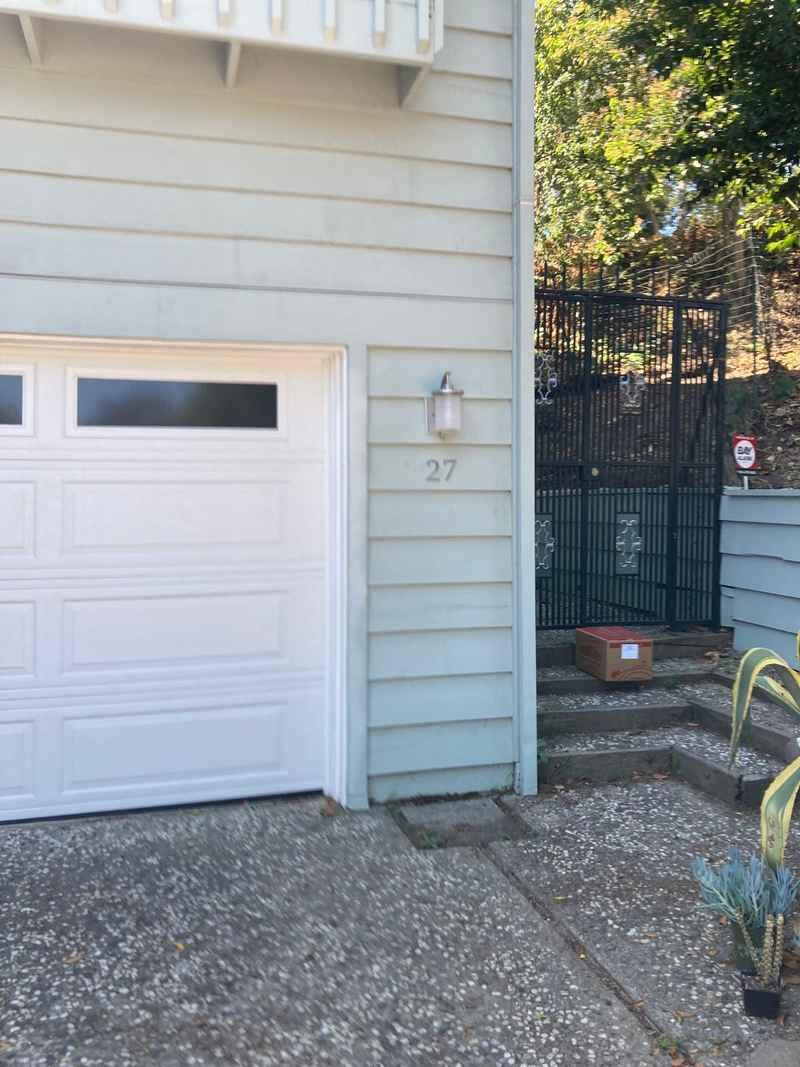package: (573, 619, 659, 690)
